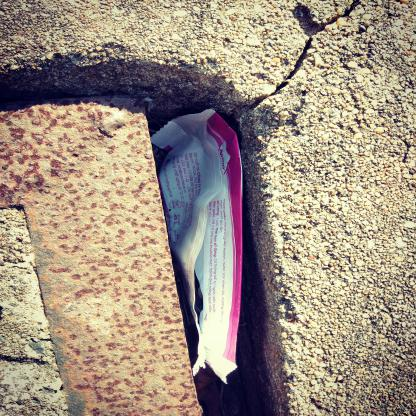Other plastic: (150, 109, 243, 384)
